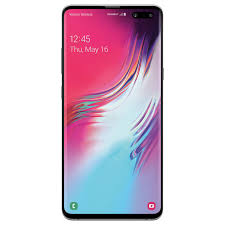samsung: (58, 4, 166, 220)
